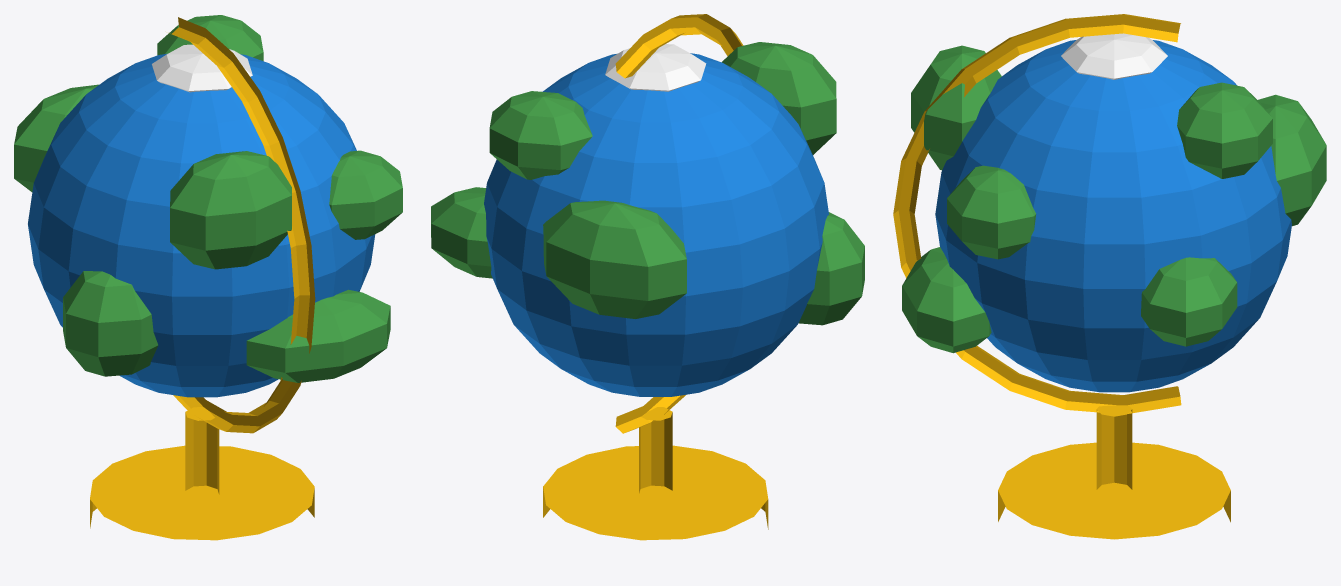
The model's file is jordglob.glb.
3 renders of one model, left to right at view 1: azimuth 30°, elevation 25°; view 2: azimuth 150°, elevation 25°; view 3: azimuth 270°, elevation 25°, orthographic. The views are drawn at different scales.
Visible parts, largest first — view 1: jordglob; view 2: jordglob; view 3: jordglob.
Boxes of the visible parts, x1,y1,x2,y2 form: jordglob: (14,15,402,540); jordglob: (431,14,864,540); jordglob: (893,14,1326,539).
Bounding box in the file's own units: 0.4774 × 0.6268 × 0.4841.
